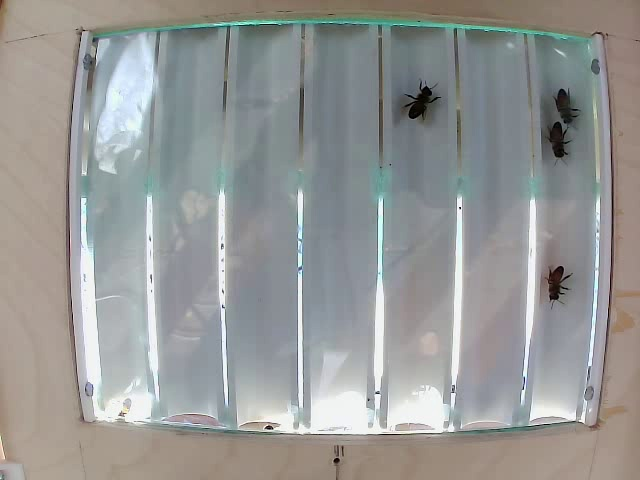bee: (411, 80, 454, 134), (534, 257, 568, 308), (555, 84, 586, 133), (550, 120, 567, 158)
